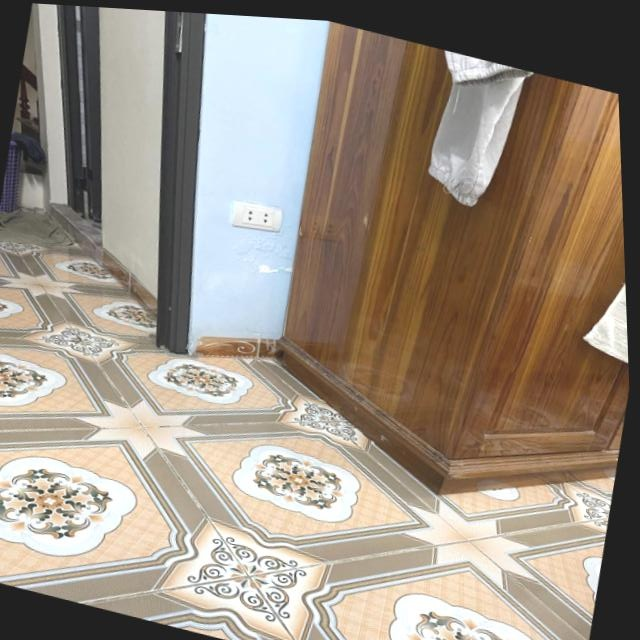outlet: (228, 197, 284, 239)
